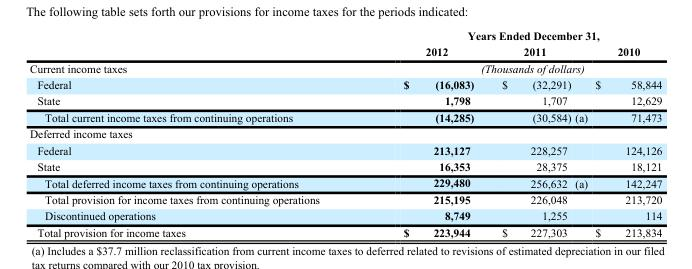table: (28, 28, 661, 238)
table column: (28, 28, 360, 238), (360, 28, 487, 238), (487, 28, 590, 238), (590, 28, 661, 238)
table column header: (28, 28, 661, 59)
table projected row header: (28, 125, 661, 141)
table row: (28, 75, 661, 92), (28, 108, 661, 125), (28, 157, 661, 174), (28, 190, 661, 207), (28, 43, 661, 59), (28, 59, 661, 75), (28, 92, 661, 108), (28, 125, 661, 141), (28, 141, 661, 157), (28, 174, 661, 190), (28, 207, 661, 223), (28, 28, 661, 43), (28, 223, 661, 238)
table spanning cell: (360, 59, 661, 75), (360, 28, 661, 43)
